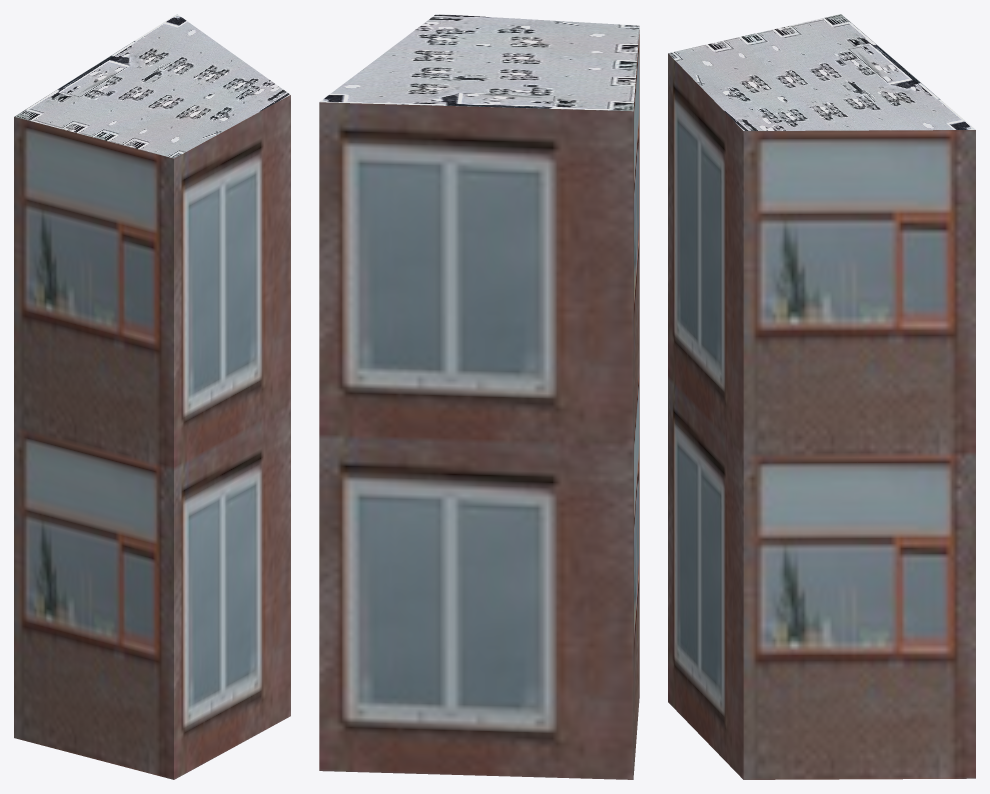
File: ResTex__4764.fbx
3 renders of one model, left to right at view 1: azimuth 30°, elevation 25°; view 2: azimuth 150°, elevation 25°; view 3: azimuth 270°, elevation 25°, orthographic. The views are drawn at different scales.
Visible parts, largest first — view 1: CityEngineMaterial_19_m, CityEngineMaterial_15_m; view 2: CityEngineMaterial_19_m, CityEngineMaterial_15_m; view 3: CityEngineMaterial_19_m, CityEngineMaterial_15_m.
Part boxes in pixels (x1,y1,x2,y2): CityEngineMaterial_19_m: [14, 95, 290, 779]; CityEngineMaterial_15_m: [14, 14, 290, 158]; CityEngineMaterial_19_m: [319, 30, 639, 779]; CityEngineMaterial_15_m: [319, 14, 639, 111]; CityEngineMaterial_19_m: [668, 53, 975, 779]; CityEngineMaterial_15_m: [668, 14, 975, 130].
Size of the model in its own units: 2.32 by 6 by 2.58.
2 materials, 2 textured.
